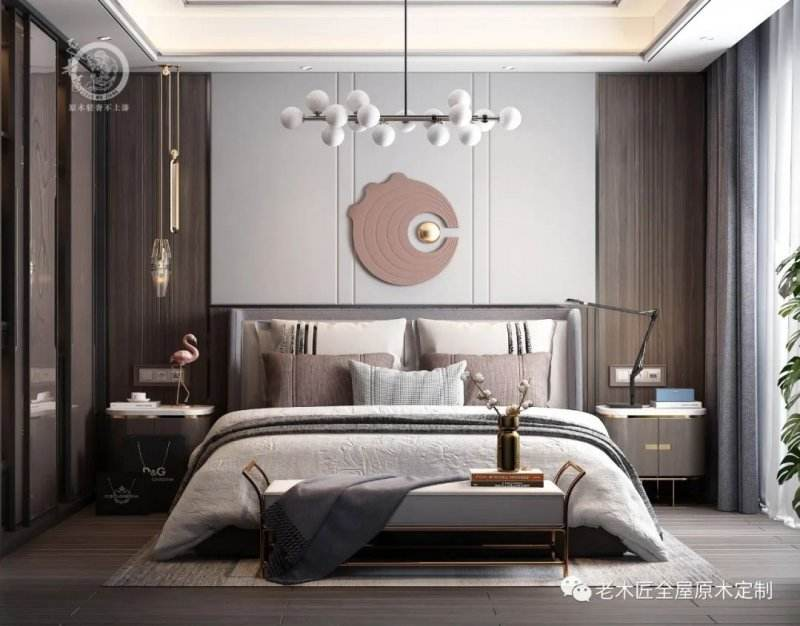床: (153, 400, 641, 580)
枕头: (241, 317, 584, 419)
灯: (269, 77, 524, 152), (547, 294, 668, 422), (144, 229, 179, 297)
